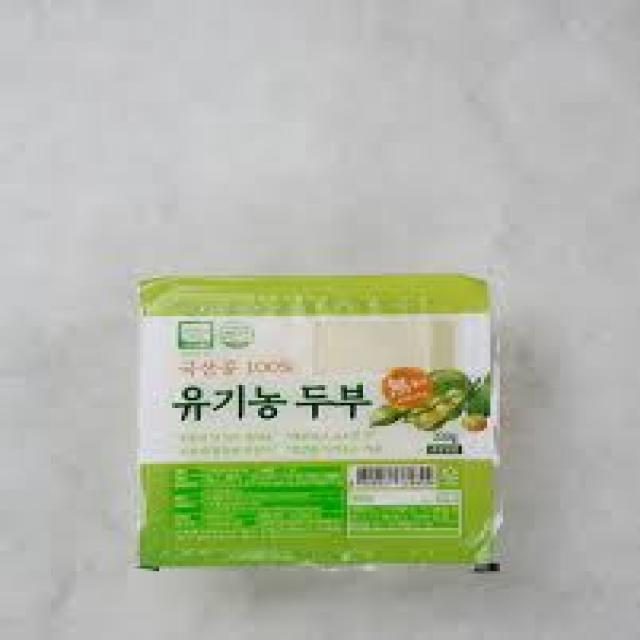tofu: (112, 273, 528, 581)
